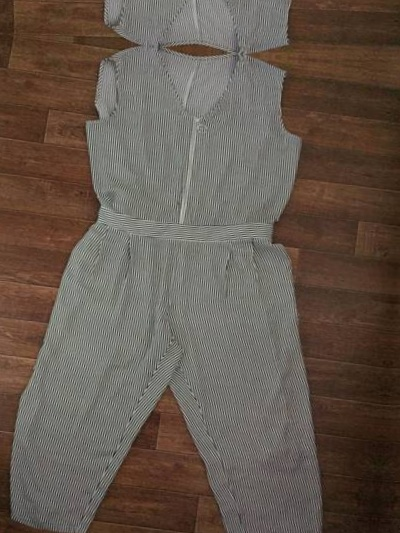Body: (0, 40, 379, 533), (26, 0, 400, 61)
